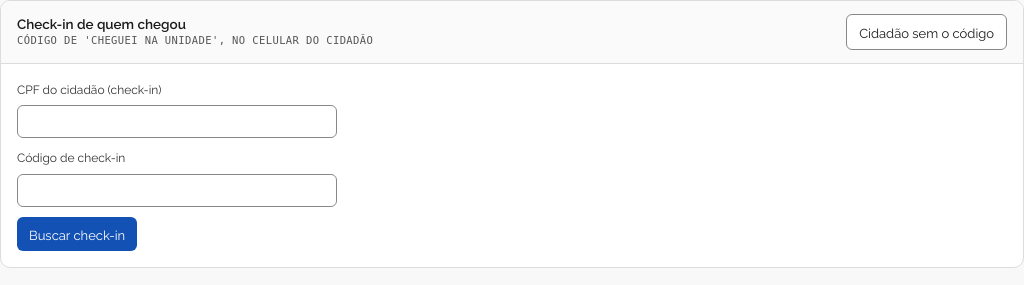
Scenario: CheckIn › cartão mostra o agendamento com hora, tipo e prioridade quando vier appointment
The width and height of the screenshot is (1024, 285).
Step 1. Type "52998224725" into the field labelled "CPF do cidadão (check-in)" → point(177, 122), box [17,105,337,138]
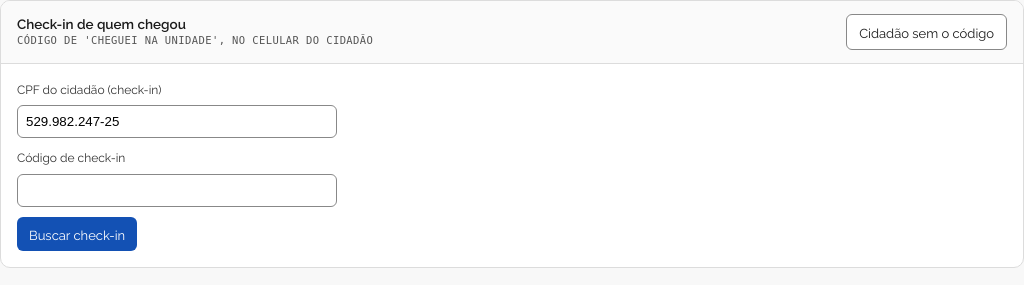
Step 2. Type "123456" into the field labelled "Código de check-in" → point(177, 190), box [17,174,337,207]
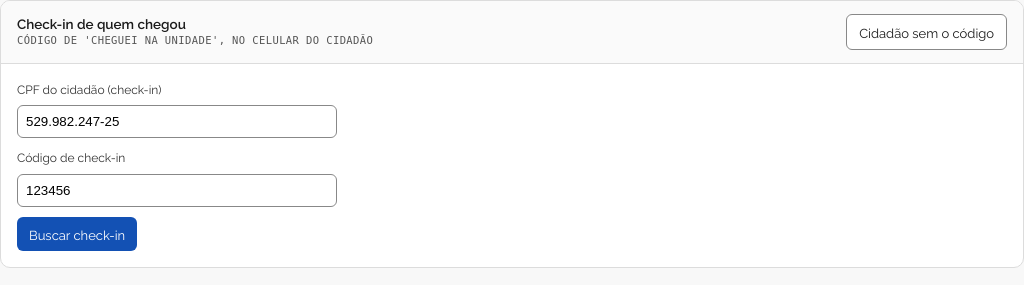
Step 3. Click the button "Buscar check-in" → point(77, 234), box [17,217,137,251]
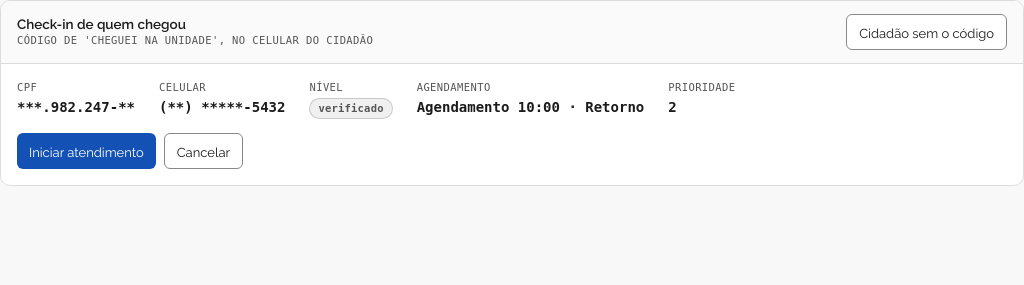
Now the text "Agendamento 10:00 · Retorno" is shown, box [417,97,644,118]
Now the text "2" is shown, box [668,99,677,115]
